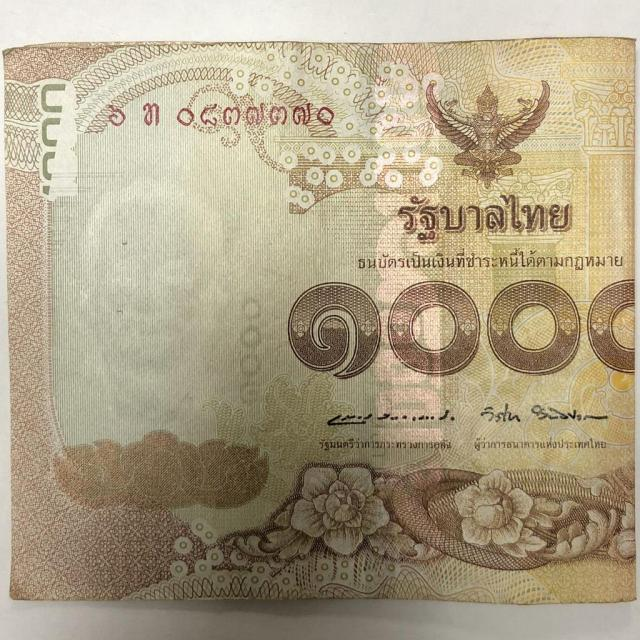THAI1000: (0, 37, 639, 607)
